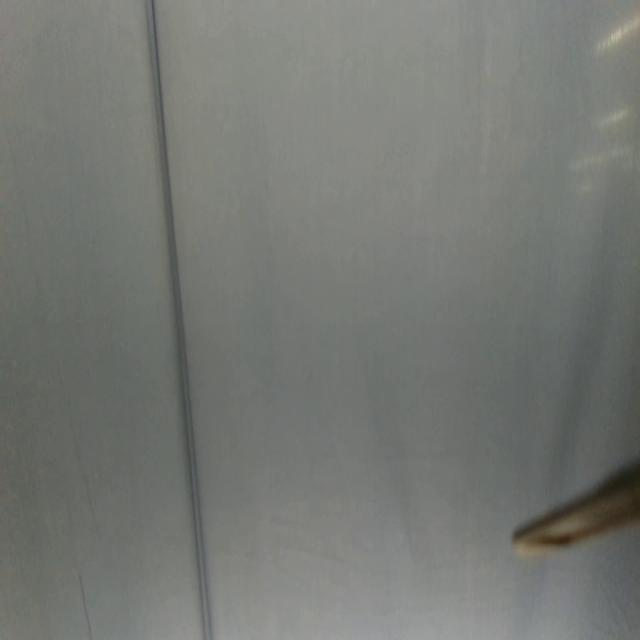crease: (146, 0, 212, 639)
